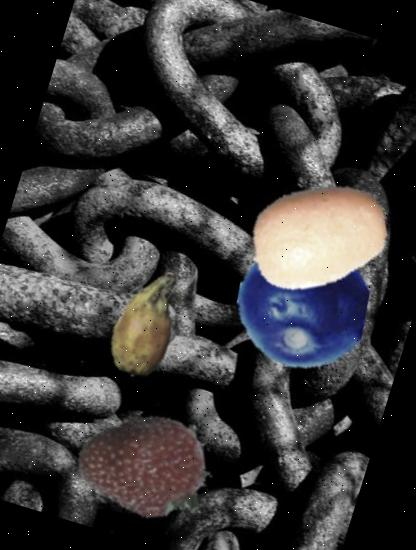Cactus: (76, 253, 216, 393)
Huckleberry: (221, 226, 382, 386)
Kumquats: (234, 153, 404, 324)
Strawberry: (60, 384, 229, 550)
